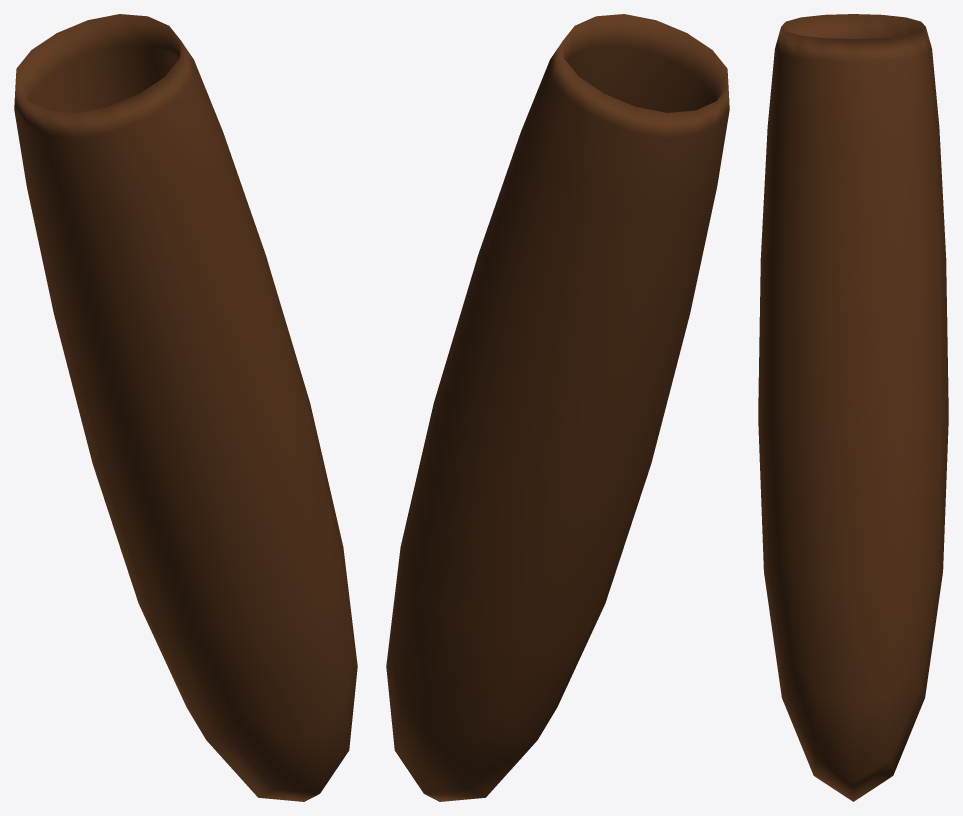
Rendered from ArrowBagMesh.fbx.
3 renders of one model, left to right at view 1: azimuth 30°, elevation 25°; view 2: azimuth 150°, elevation 25°; view 3: azimuth 270°, elevation 25°, orthographic. The views are drawn at different scales.
Visible parts, largest first — view 1: Cube.009; view 2: Cube.009; view 3: Cube.009.
Part boxes in pixels (x1,y1,x2,y2): Cube.009: (14,14,357,801); Cube.009: (386,14,729,801); Cube.009: (758,14,948,801).
Size of the model in its own units: 97.42 by 235 by 57.64.
